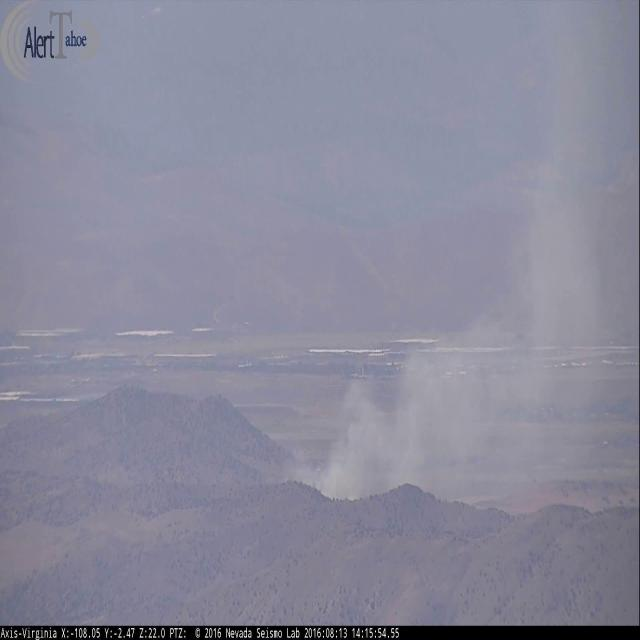smoke: (289, 13, 637, 498)
